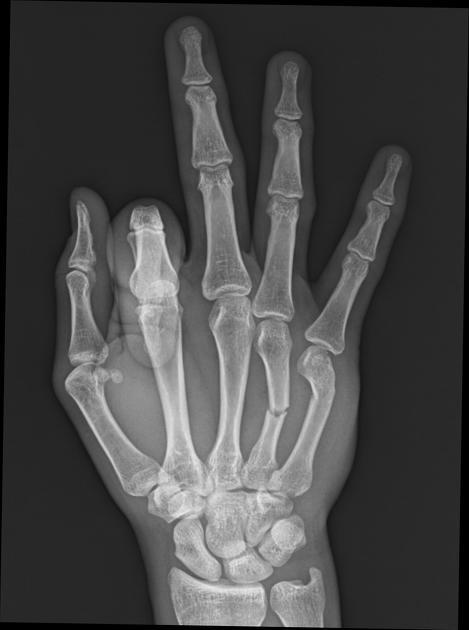fractured: (267, 403, 291, 418)
